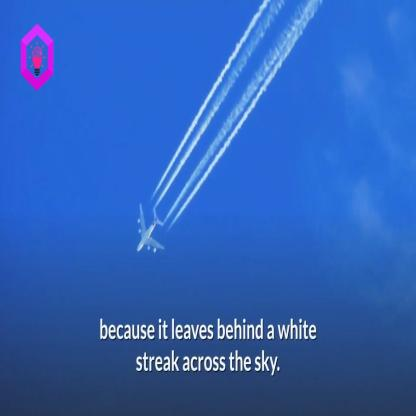plane: (130, 198, 168, 261)
